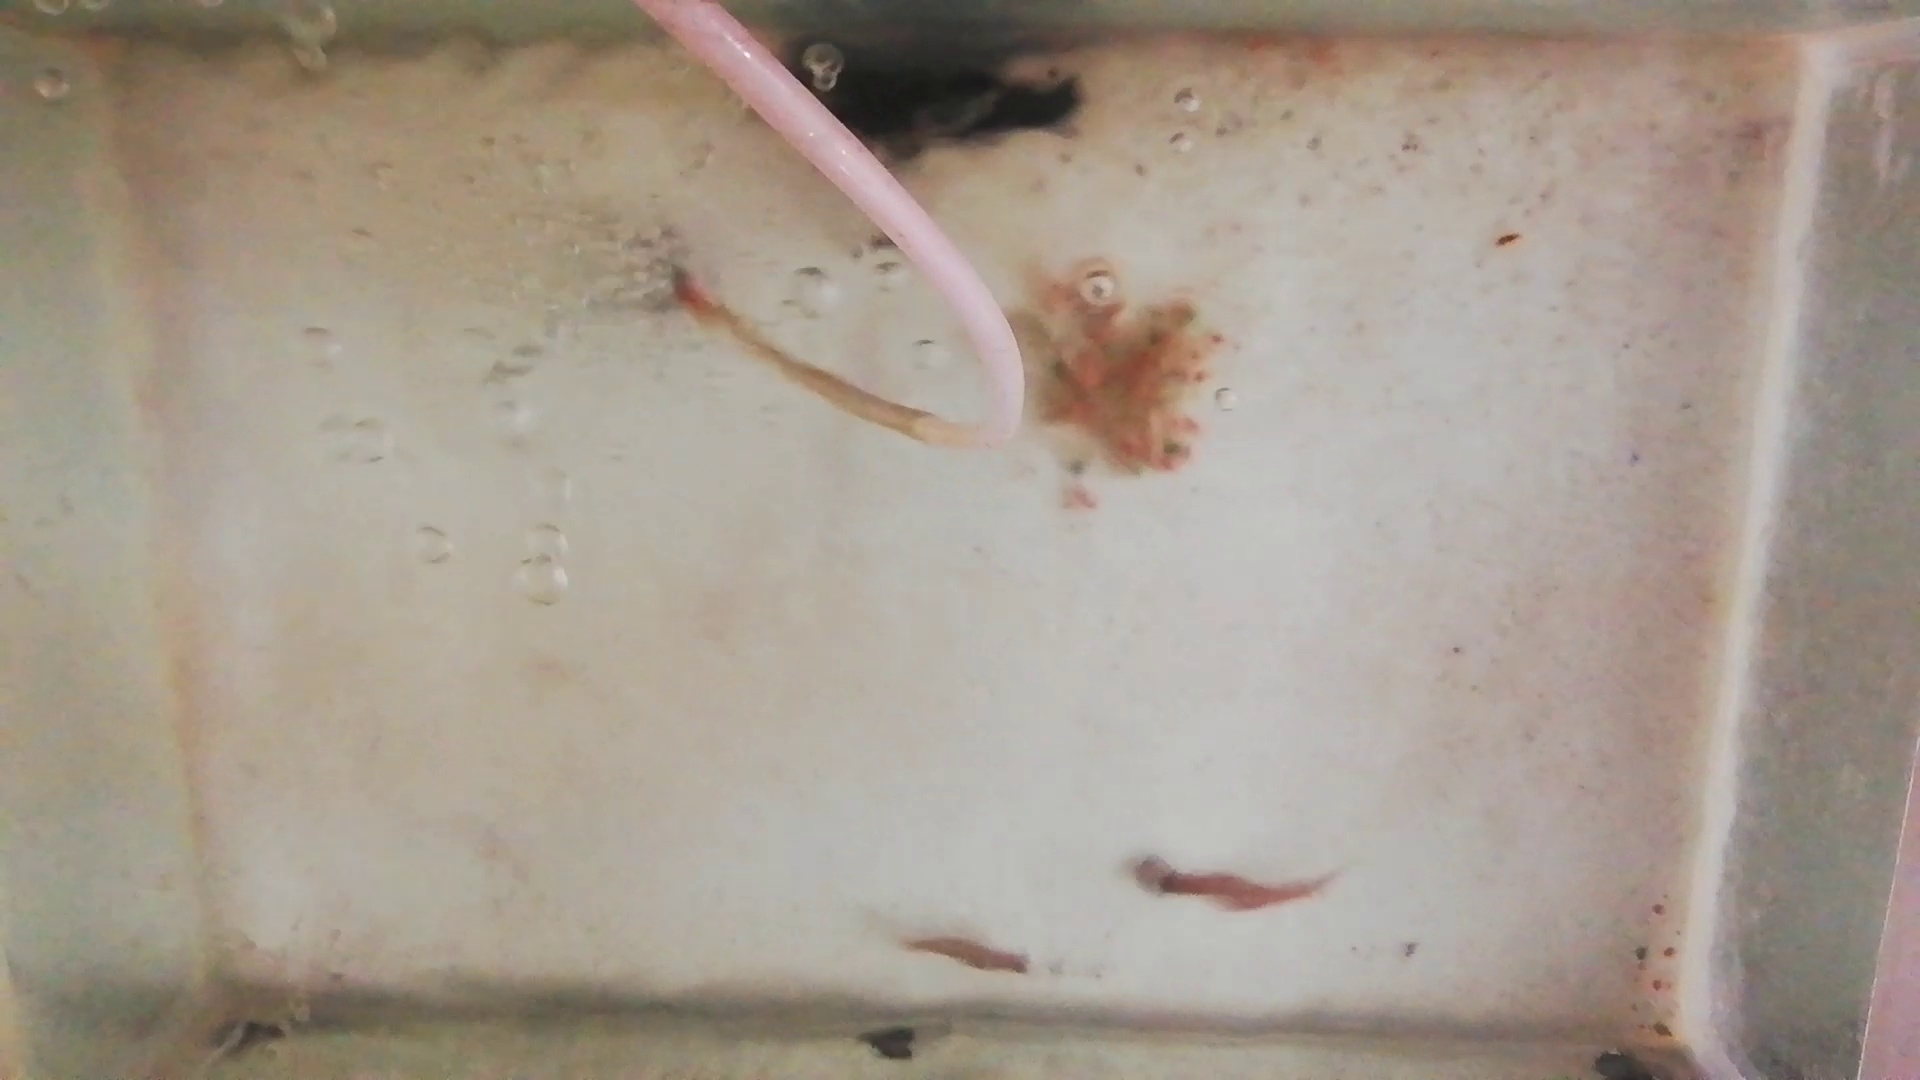fish: (1131, 855, 1328, 909), (902, 934, 1036, 980)
